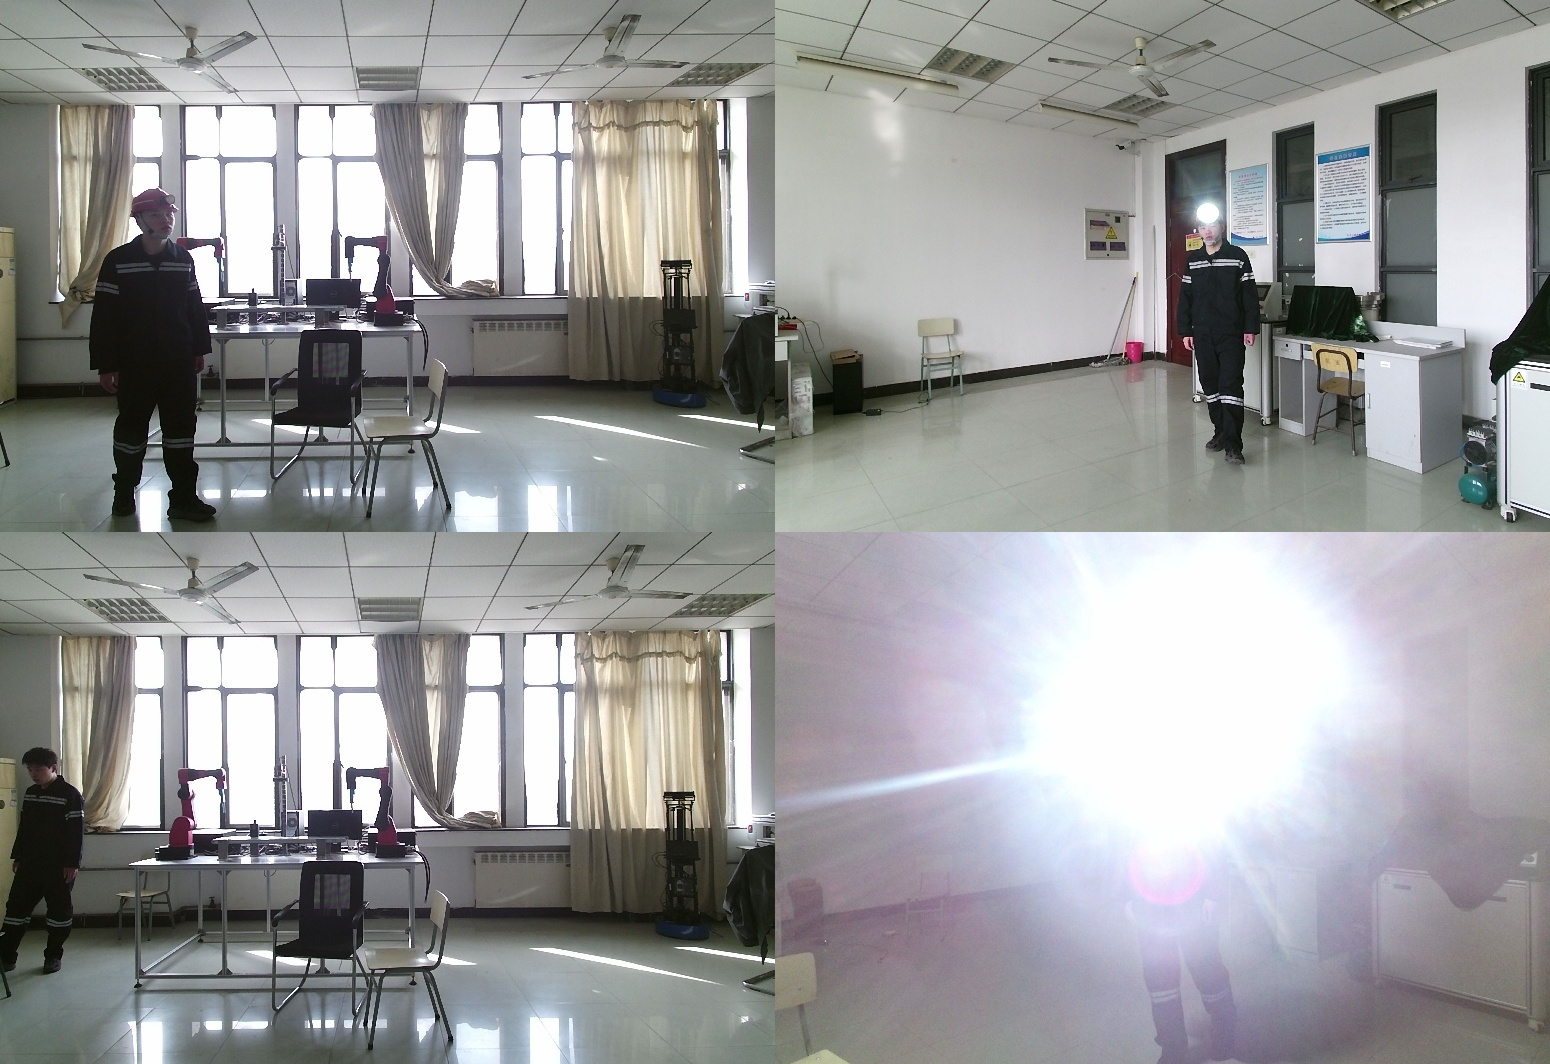person: (84, 187, 217, 532), (1125, 708, 1250, 1064), (1177, 204, 1272, 469), (1, 747, 91, 973)
